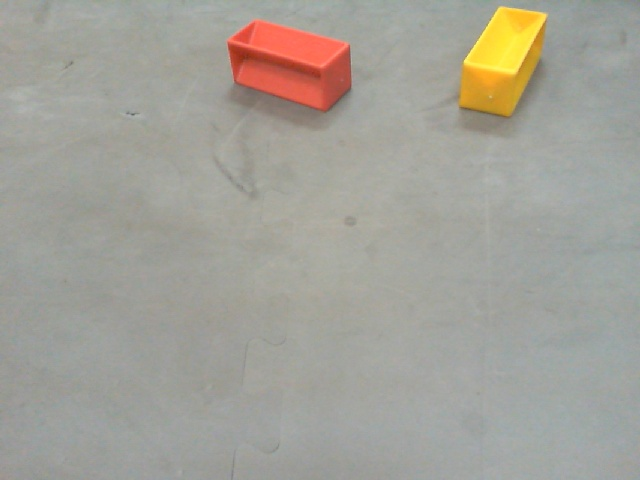RedSample: (224, 18, 354, 113)
YellowSample: (457, 7, 549, 114)
